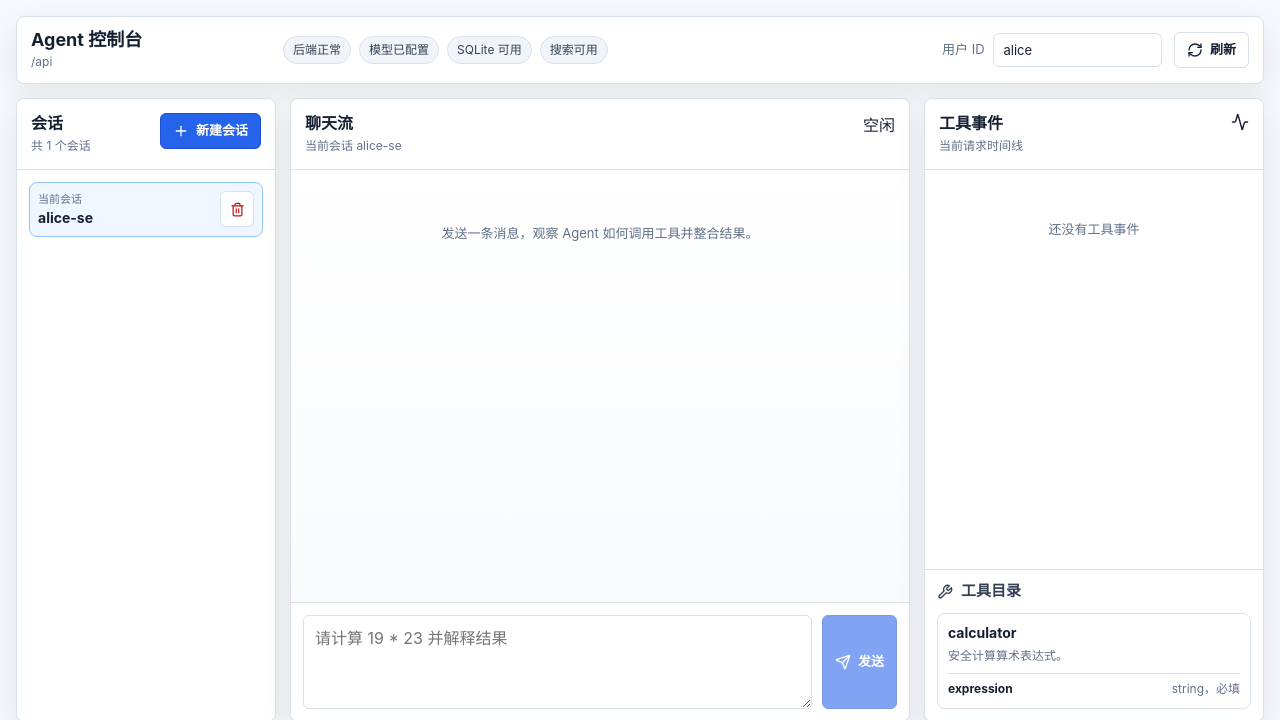
Test: Agent 控制台 › 删除会话未返回时切换用户会忽略旧用户删除结果
Check: the text "alice-se" is shown, box [38,209,93,226]
Click the button named "删除会话 alice-se".
click(237, 209)  # box [220,191,254,227]
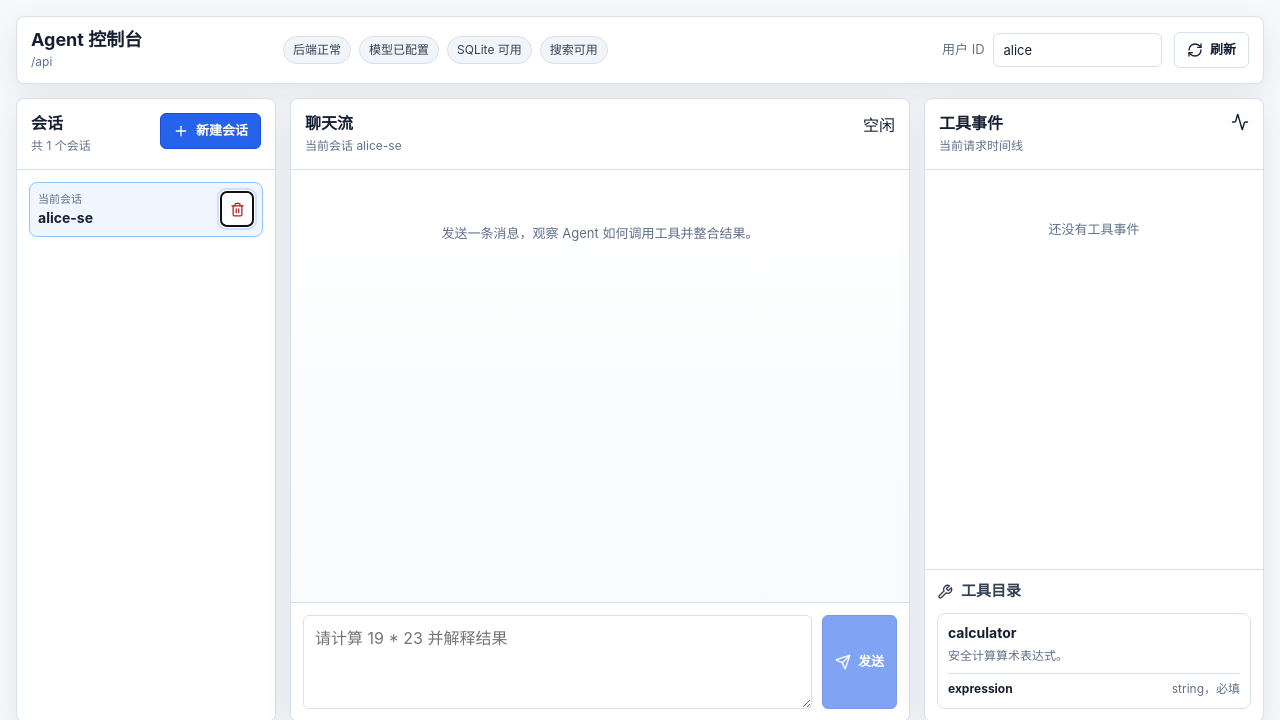
Replace the text in the field labelled "用户 ID" with "bob" at coordinates (1077, 50), box [992,33,1162,67]
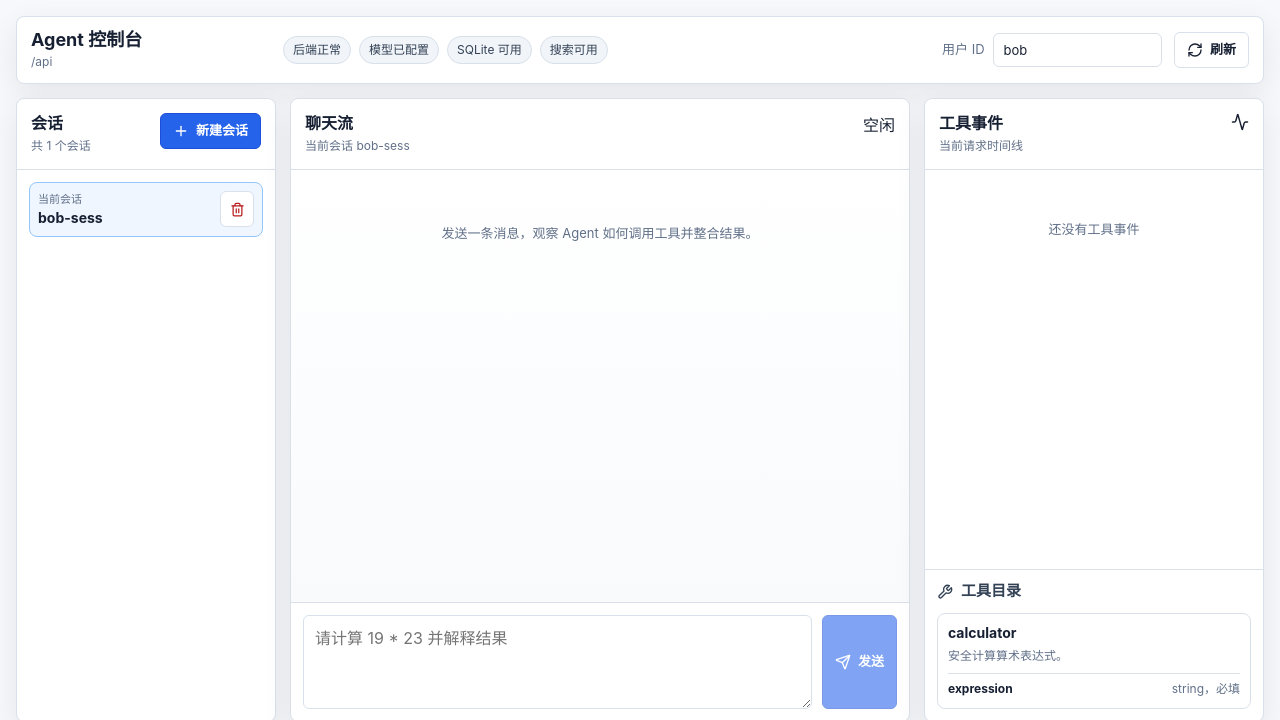
Check: the text "bob-sess" is shown, box [38,209,103,226]
Check: the text "当前会话 bob-sess" is shown, box [305,137,410,155]
